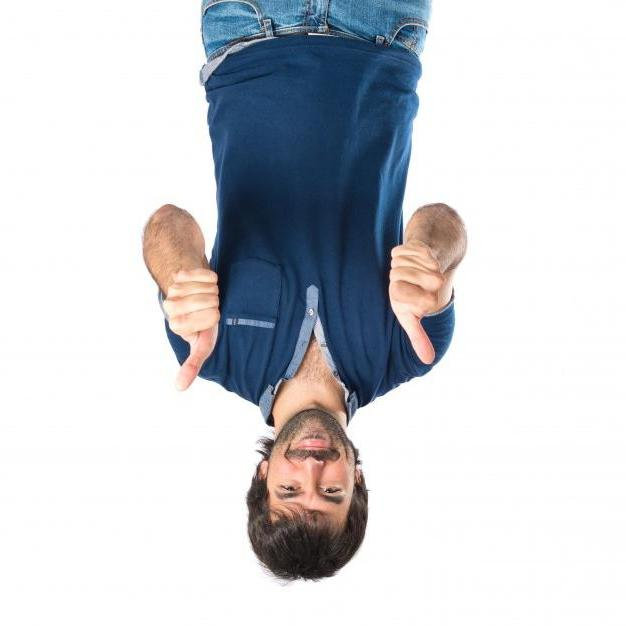thumbsdown: (164, 268, 221, 392), (390, 241, 445, 365)
